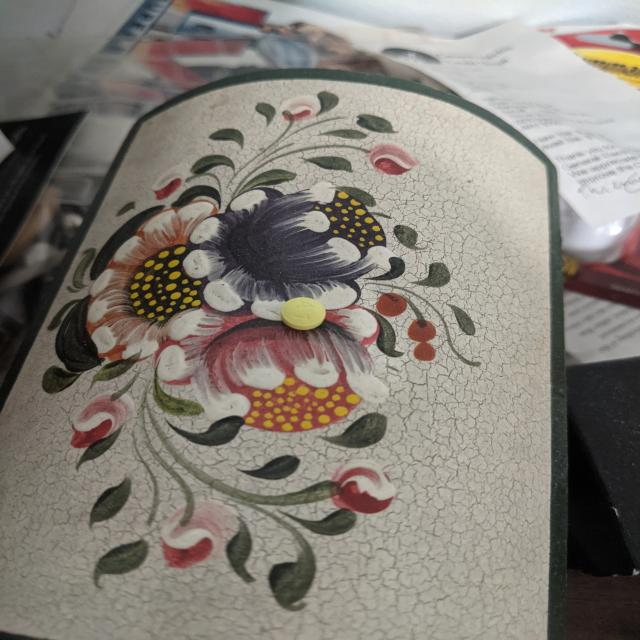non-organic waste: (280, 296, 326, 331)
